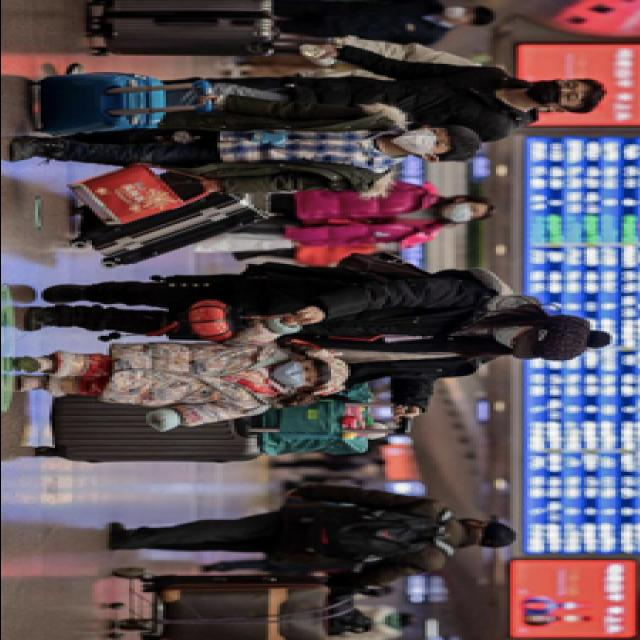with_mask: (396, 126, 450, 156), (529, 76, 583, 105), (276, 362, 322, 388), (490, 325, 538, 349), (441, 202, 481, 220), (444, 5, 478, 22)
